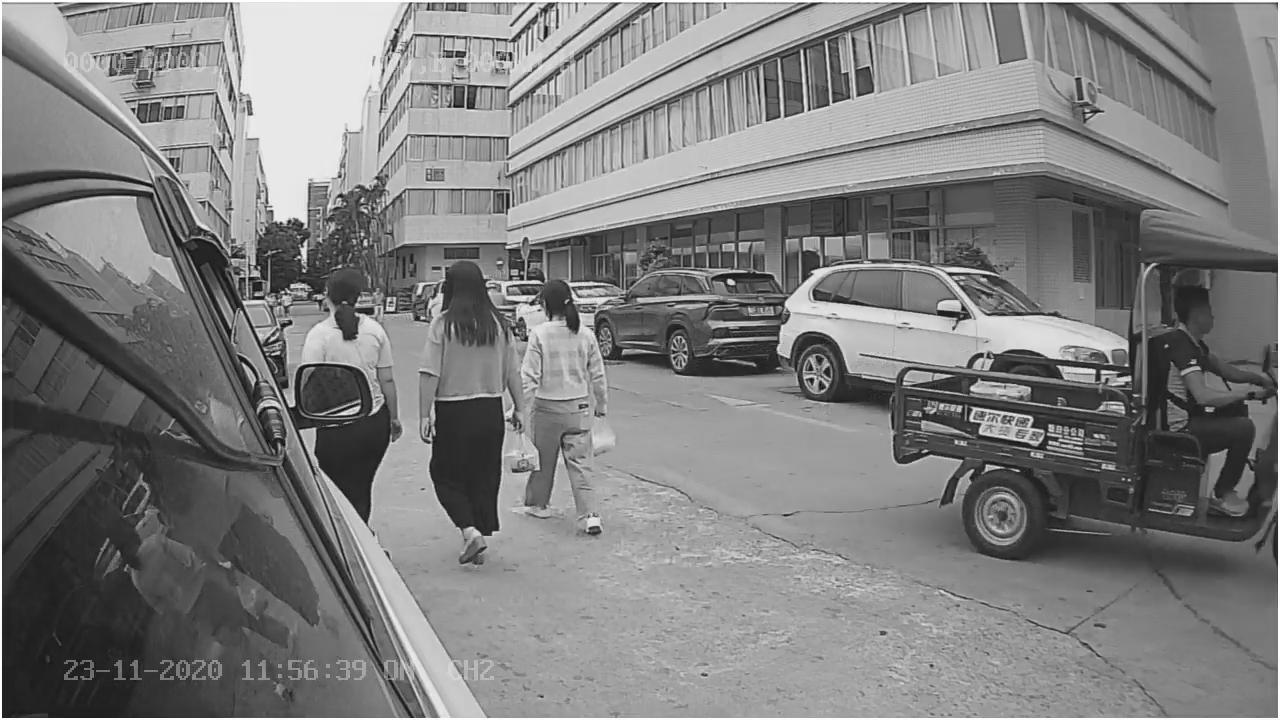person: (409, 255, 529, 578), (515, 271, 628, 547)
